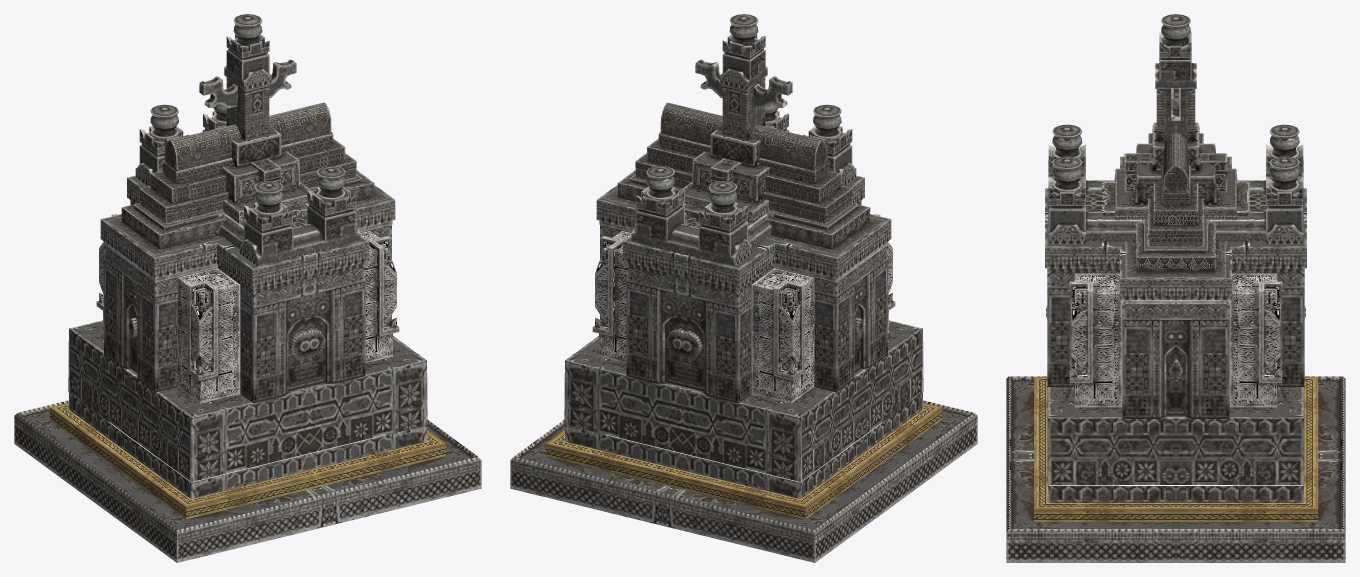
The model's file is floor-chest.glb.
The picture shows the model from 3 angles, left to right: view 1: azimuth 30°, elevation 25°; view 2: azimuth 150°, elevation 25°; view 3: azimuth 270°, elevation 25°; orthographic projection. The views are drawn at different scales.
Parts seen in each view (by area): view 1: floor-chest_mesh; view 2: floor-chest_mesh; view 3: floor-chest_mesh.
Boxes of the visible parts, <box> form: floor-chest_mesh: <box>14,14,481,562</box>; floor-chest_mesh: <box>510,14,977,562</box>; floor-chest_mesh: <box>1006,14,1345,562</box>.
Bounding box in the file's own units: 1.04 × 1.47 × 0.9641.
Materials: 8 (8 with a texture image).
